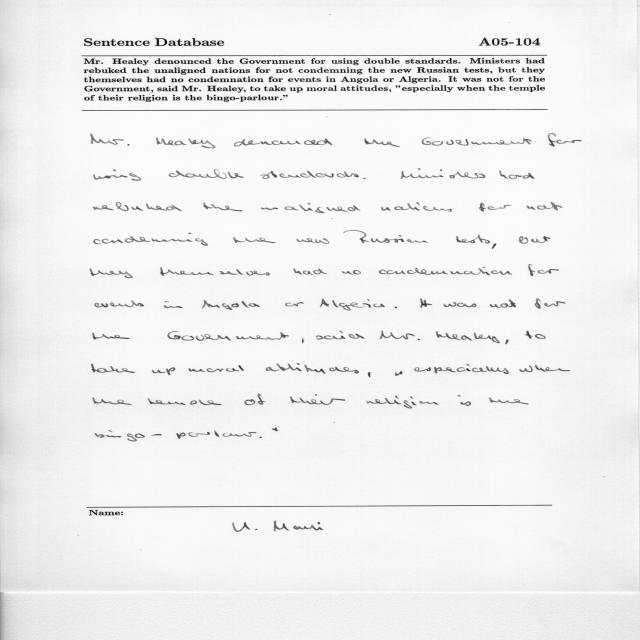word: (95, 430, 257, 441), (94, 232, 208, 246), (167, 331, 289, 341), (343, 231, 428, 244), (379, 267, 512, 275), (266, 363, 359, 374), (422, 137, 532, 146), (261, 203, 360, 213), (160, 267, 270, 276), (414, 364, 509, 374), (366, 396, 439, 409), (260, 170, 359, 179), (401, 169, 485, 179), (93, 202, 182, 211), (234, 139, 332, 147), (320, 299, 385, 311), (436, 332, 500, 344), (169, 169, 244, 179), (381, 202, 452, 212), (156, 138, 215, 149), (290, 394, 345, 405), (148, 398, 221, 406), (202, 300, 260, 310), (456, 235, 497, 249), (94, 169, 141, 181), (548, 133, 582, 147), (91, 134, 130, 146), (91, 363, 135, 373), (90, 269, 133, 279), (188, 365, 244, 372), (316, 331, 364, 339), (528, 264, 559, 276), (379, 331, 420, 340), (203, 203, 243, 212), (519, 365, 570, 372), (95, 301, 144, 308), (535, 298, 566, 309), (364, 138, 400, 147), (527, 202, 562, 211), (93, 397, 132, 405), (479, 203, 511, 212), (500, 171, 535, 179), (489, 398, 528, 405), (93, 333, 130, 340), (233, 237, 276, 243), (244, 394, 266, 405), (294, 268, 328, 275), (490, 299, 516, 308), (297, 238, 330, 244), (152, 367, 175, 375), (525, 331, 546, 339), (444, 302, 477, 307), (458, 395, 471, 406), (531, 236, 550, 243), (164, 301, 183, 308), (420, 298, 432, 308), (341, 270, 361, 275), (285, 302, 304, 307), (519, 236, 528, 244), (395, 371, 402, 376), (505, 340, 509, 345), (273, 428, 279, 431), (302, 338, 304, 343), (368, 372, 370, 377), (363, 178, 366, 179), (259, 437, 262, 438), (395, 307, 397, 308)
